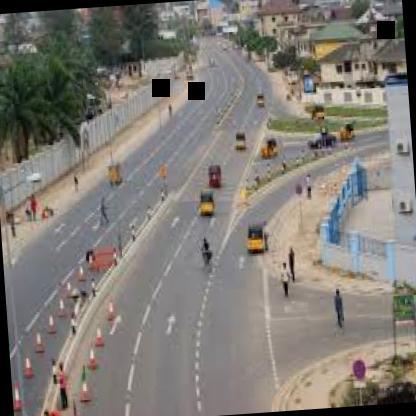car: (236, 207, 272, 264), (252, 127, 287, 163), (307, 123, 337, 157), (198, 185, 224, 222), (303, 96, 331, 124), (231, 126, 256, 157), (210, 157, 229, 194), (336, 119, 359, 143), (250, 90, 272, 112)
